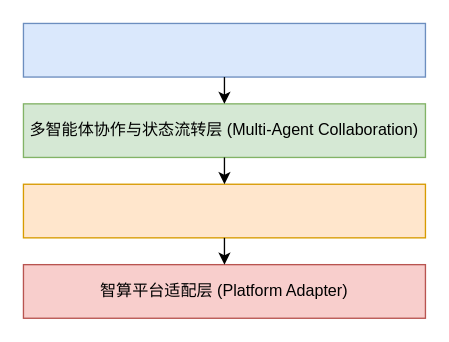
This 449x342 diagram has some shape labels left out. The shapes that lost their labels are listed below. From the top down, each one's centre as x and y in pixels, then its label:
At point 223,49: "多模态交互与上下文层 (Interaction & Context)".
At point 223,210: "工具与安全声明层 (Tool & Security Declaration)".
